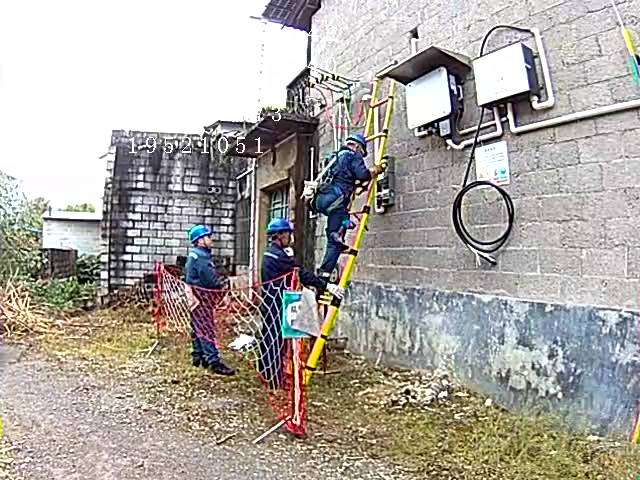downsuit: (314, 188, 356, 275), (254, 308, 289, 384), (189, 291, 225, 361)
halt: (266, 218, 296, 247), (189, 224, 216, 248), (345, 134, 371, 155)
inear: (196, 233, 208, 251)
intosign: (281, 290, 316, 339)
person: (255, 218, 316, 383), (312, 132, 373, 285), (175, 223, 230, 368)
support: (254, 217, 342, 384)
upsuit: (257, 246, 320, 309), (318, 148, 370, 189), (183, 248, 222, 289)
wglove: (323, 281, 344, 299)
